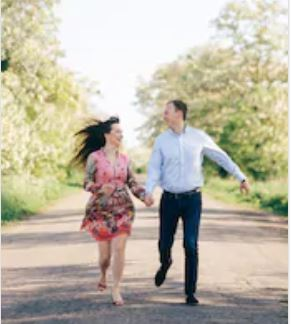Bad: (73, 100, 251, 306)
